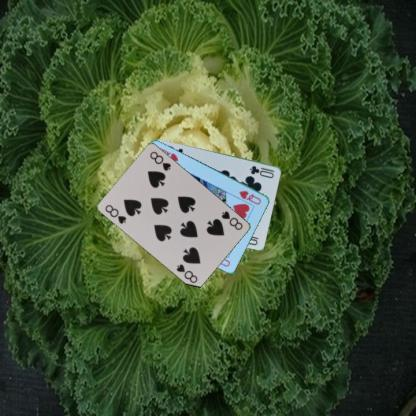10c: (247, 163, 276, 179)
8s: (219, 208, 244, 232), (103, 202, 128, 225)
Qh: (237, 188, 262, 206)
